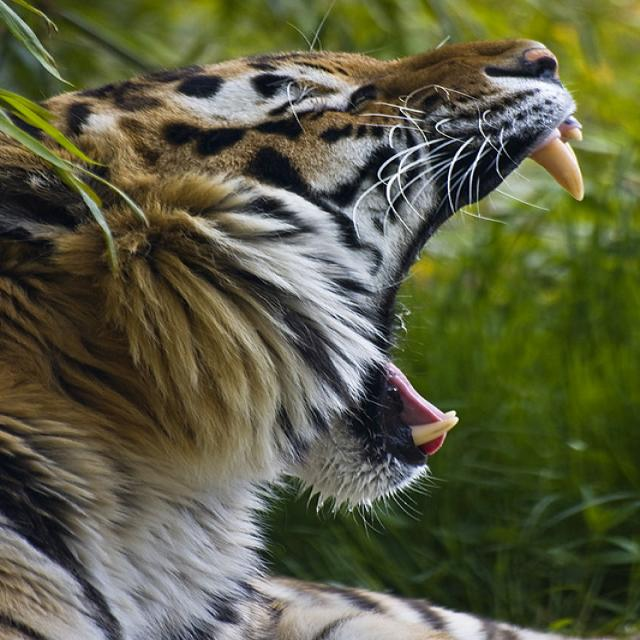Tiger: (0, 36, 591, 637)
